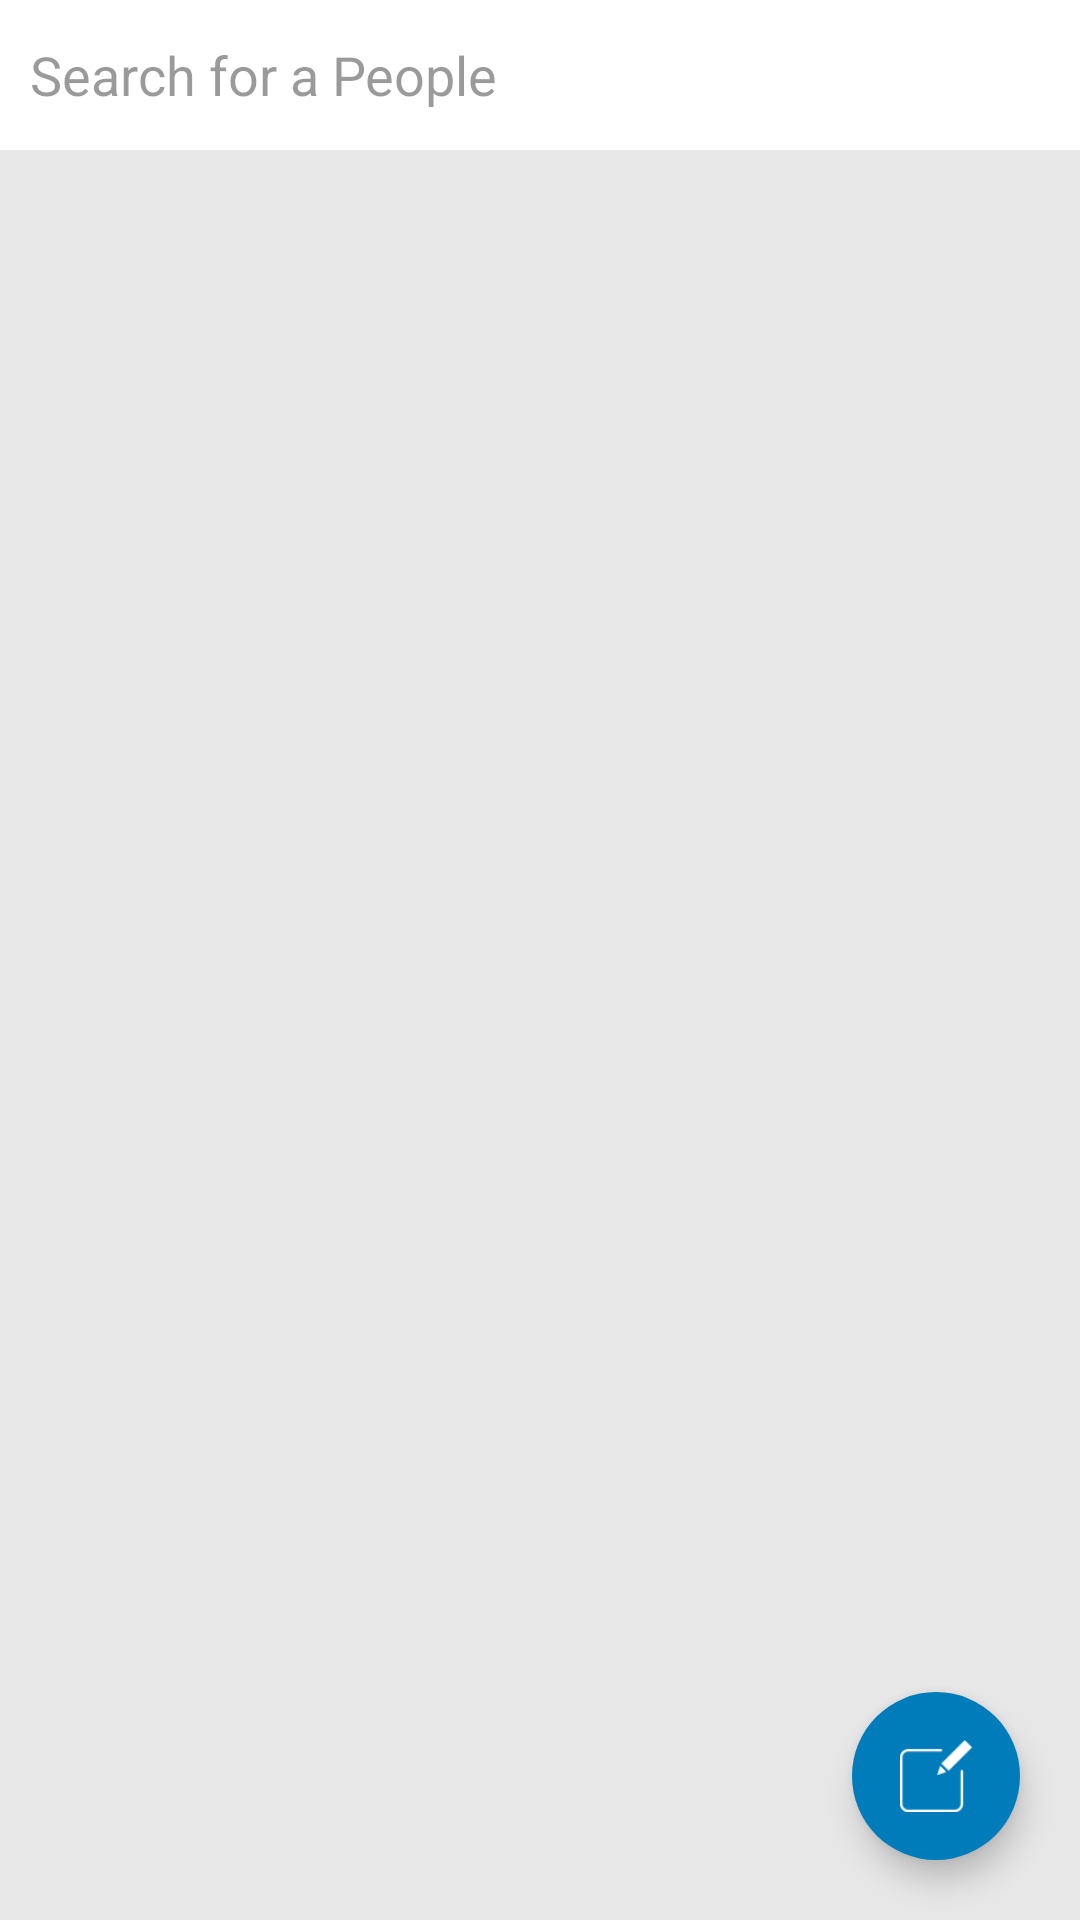

Icons on this 1080*1920 Android screen, each with its box as (x1, y1, x2, y2):
create post: (852, 1692, 1020, 1860)
